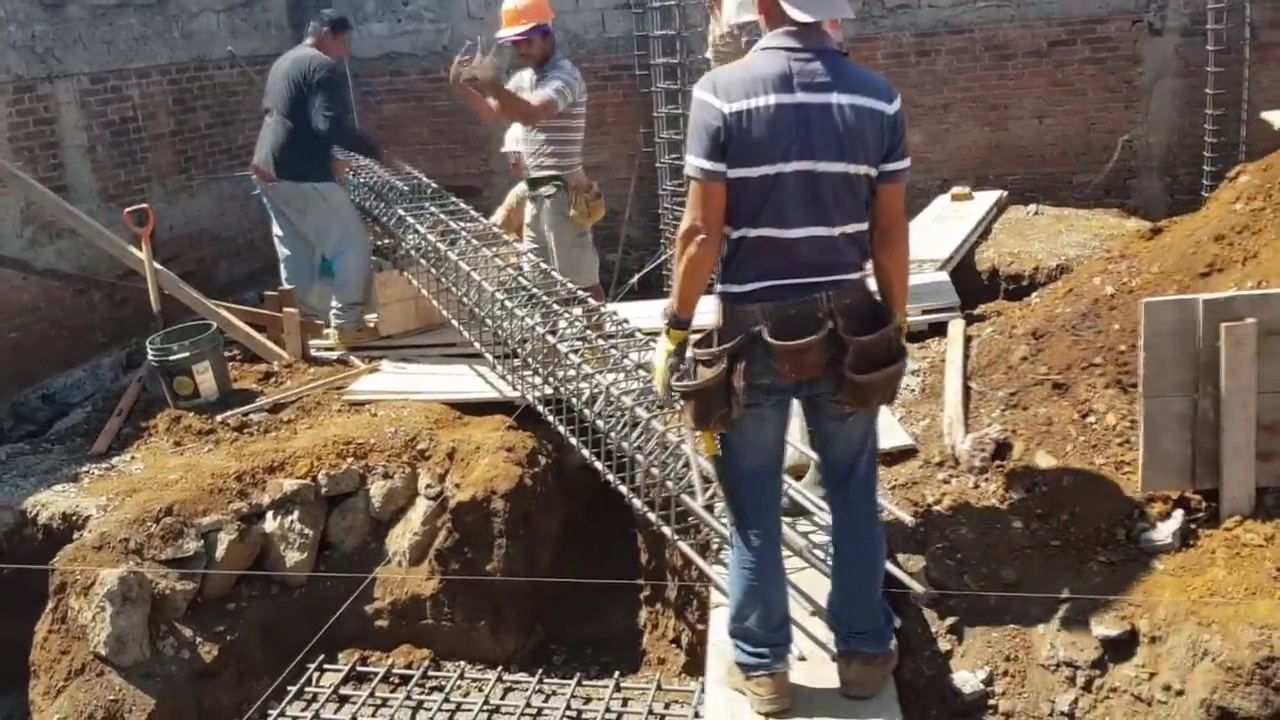helmet: (489, 0, 557, 46)
helmet-off: (751, 0, 852, 50), (300, 7, 352, 60)
helmet-on: (490, 0, 556, 68)
person: (643, 0, 922, 711), (450, 4, 621, 382), (248, 0, 375, 350)
